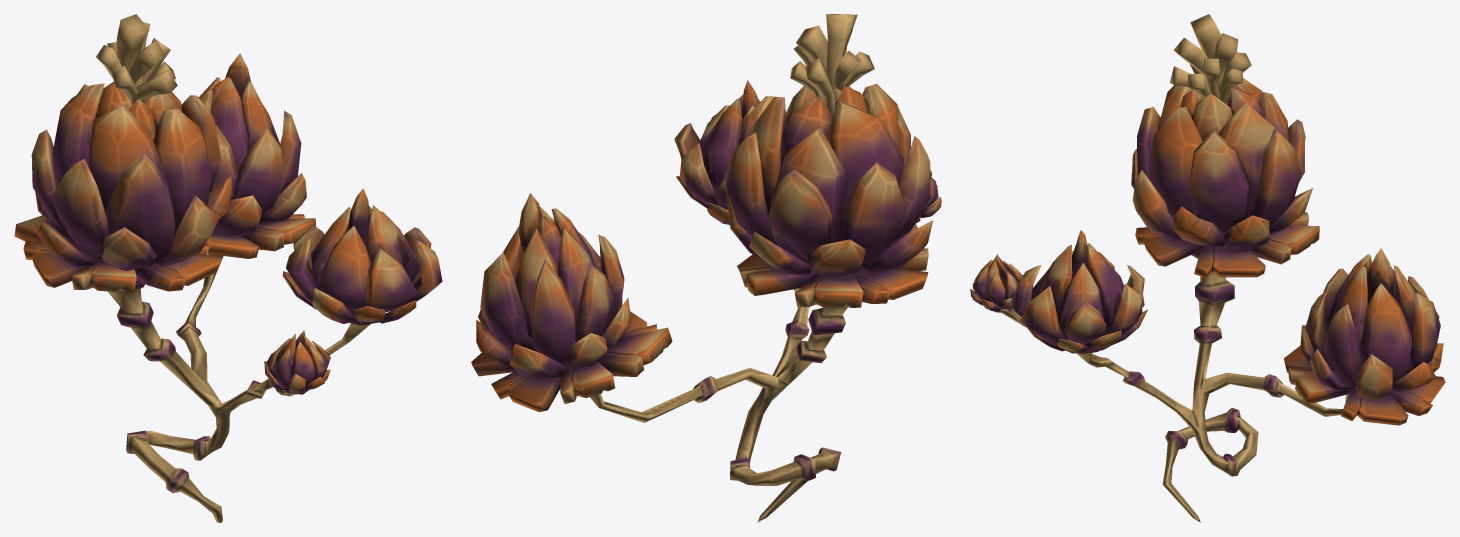
The model's file is des1.glb.
3 views of the same model, side by side, from view 1: azimuth 30°, elevation 25°; view 2: azimuth 150°, elevation 25°; view 3: azimuth 270°, elevation 25° (orthographic). The views are drawn at different scales.
Visible parts, largest first — view 1: node_id46; view 2: node_id46; view 3: node_id46.
Boxes of the visible parts, x1,y1,x2,y2 form: node_id46: (14, 14, 442, 522); node_id46: (471, 14, 941, 522); node_id46: (970, 14, 1445, 522).
Size of the model in its own units: 0.3535 by 0.512 by 0.4719.
1 material, 1 textured.
